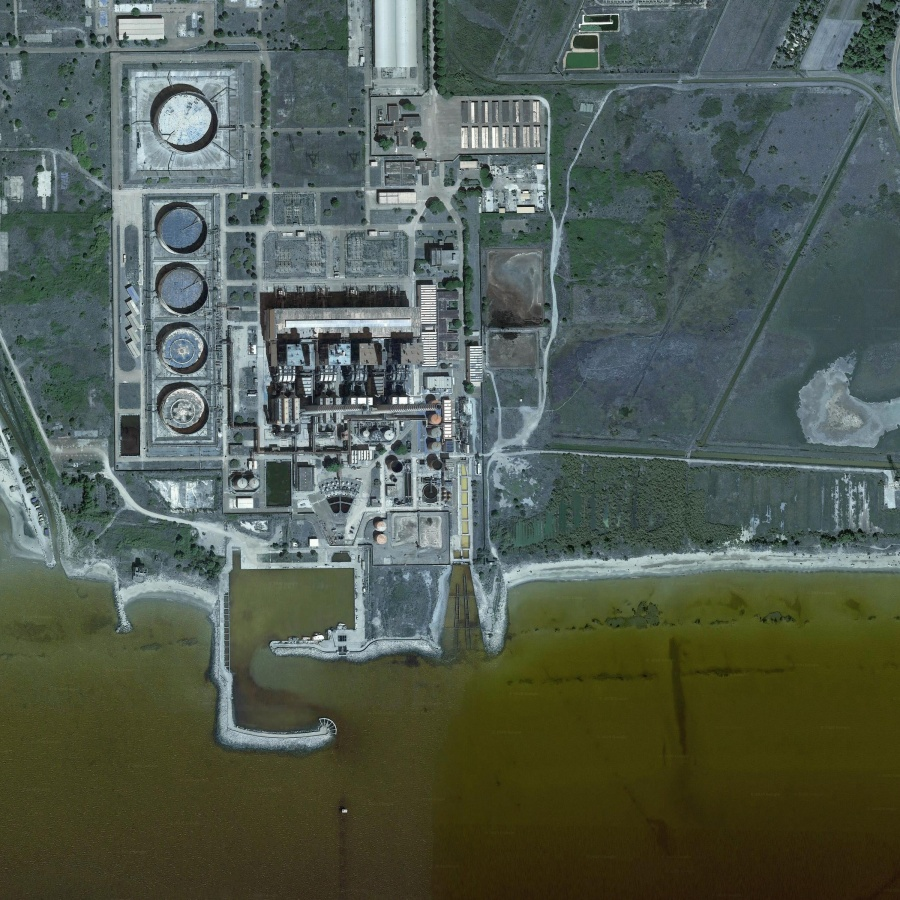PowerPlant: (107, 52, 256, 468)
